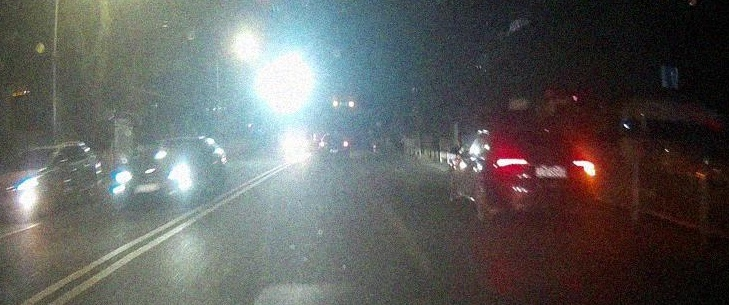L_light: (496, 158, 527, 166)
R_light: (573, 161, 596, 176)
T_light: (535, 136, 551, 139)
night-right: (491, 132, 596, 224)
